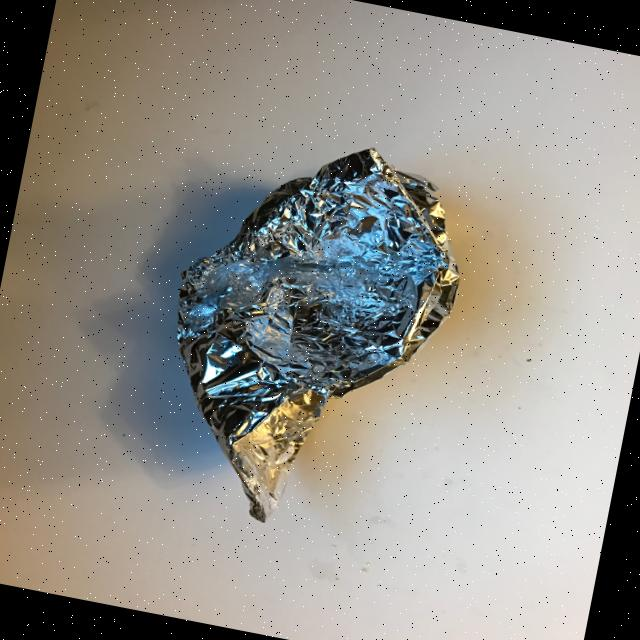metal: (137, 116, 483, 551)
